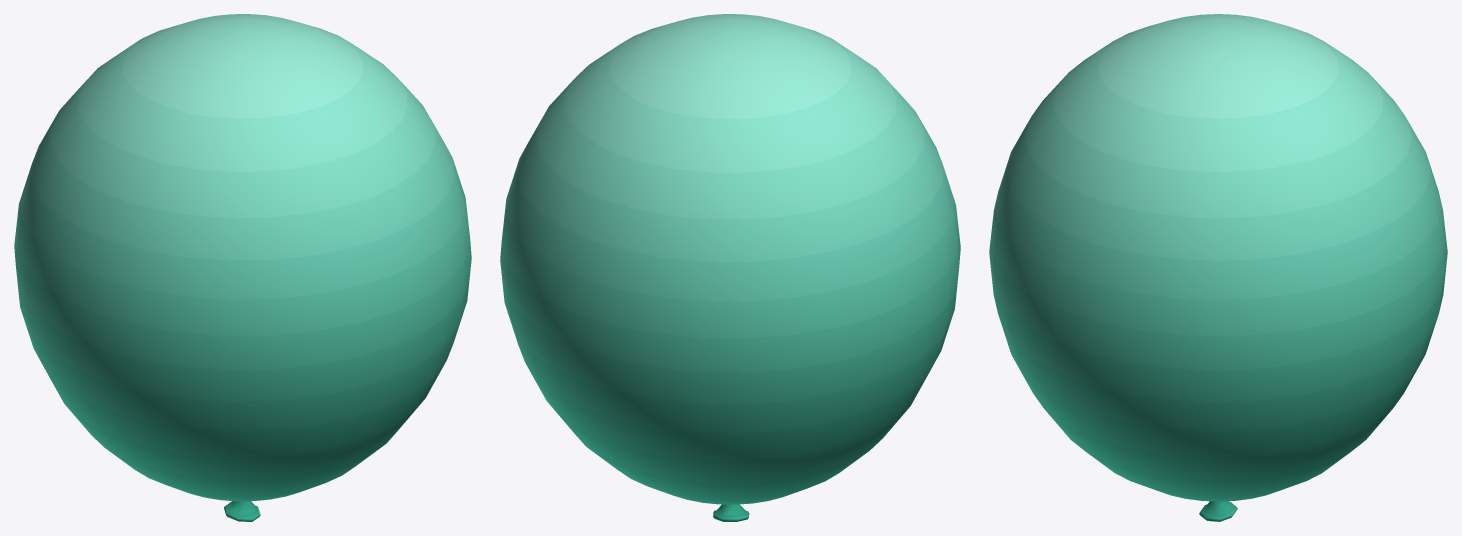
Rendered from balloon_green.fbx.
3 renders of one model, left to right at view 1: azimuth 30°, elevation 25°; view 2: azimuth 150°, elevation 25°; view 3: azimuth 270°, elevation 25°, orthographic.
Visible parts, largest first — view 1: balloon_green, balloon_green_t; view 2: balloon_green, balloon_green_t; view 3: balloon_green, balloon_green_t.
Boxes of the visible parts, bbox=[...] form: balloon_green: bbox=[14, 14, 471, 501]; balloon_green_t: bbox=[224, 501, 260, 521]; balloon_green: bbox=[500, 14, 960, 504]; balloon_green_t: bbox=[713, 504, 749, 521]; balloon_green: bbox=[989, 14, 1447, 501]; balloon_green_t: bbox=[1199, 501, 1237, 521].
Size of the model in its own units: 64.65 by 74.87 by 64.65.
